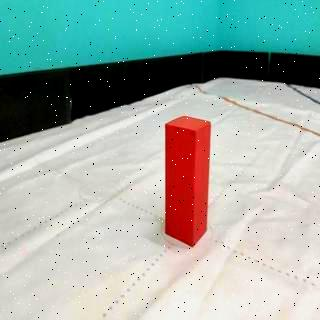redbox: (164, 114, 212, 248)
